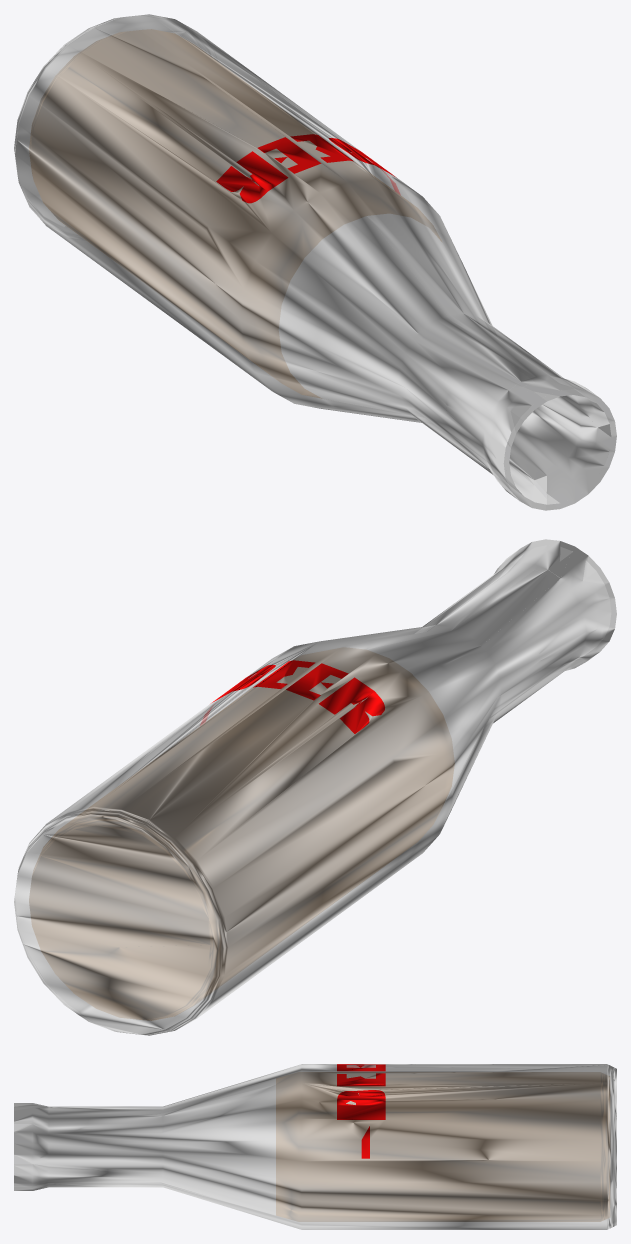
The model's file is model_align.obj.
3 views of the same model, one above another, from view 1: azimuth 30°, elevation 25°; view 2: azimuth 150°, elevation 25°; view 3: azimuth 270°, elevation 25° (orthographic). The views are drawn at different scales.
Size of the model in its own units: 0.0758 by 0.0758 by 0.2745.
